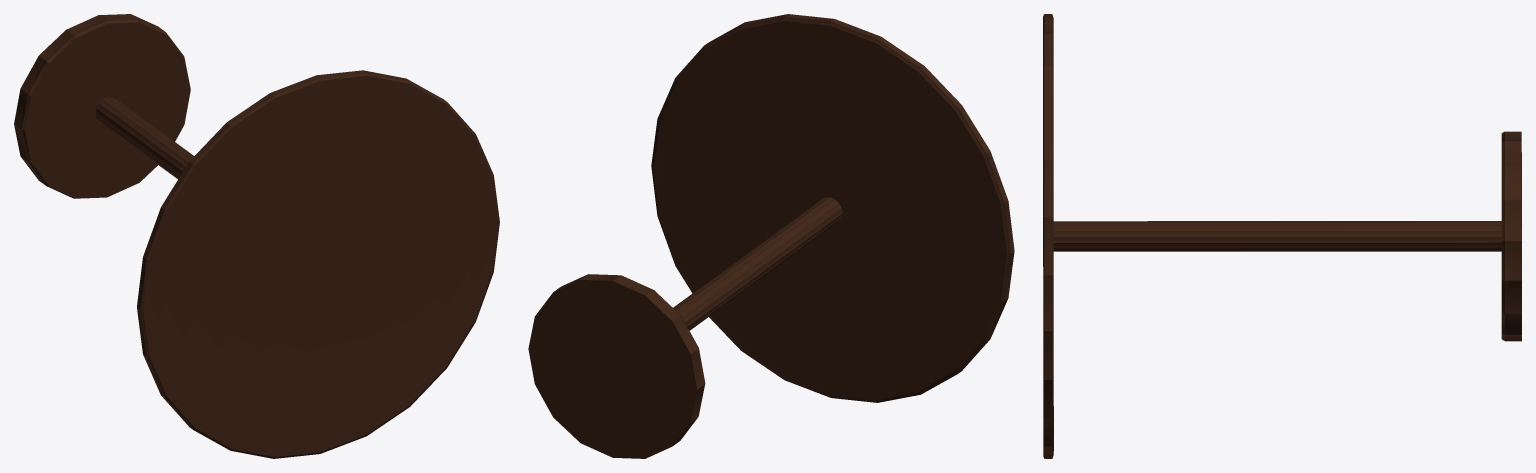
Rendered from BasemeshDiningTable_216_0.obj.
The picture shows the model from 3 angles, left to right: view 1: azimuth 30°, elevation 25°; view 2: azimuth 150°, elevation 25°; view 3: azimuth 270°, elevation 25°; orthographic projection. The views are drawn at different scales.
Parts seen in each view (by area): view 1: DiningTable_216; view 2: DiningTable_216; view 3: DiningTable_216.
Part boxes in pixels (x1=…): DiningTable_216: x1=14, y1=14, x2=499, y2=458; DiningTable_216: x1=528, y1=14, x2=1014, y2=458; DiningTable_216: x1=1043, y1=14, x2=1521, y2=458.
Bounding box in the file's own units: 0.971 × 0.971 × 1.04.
